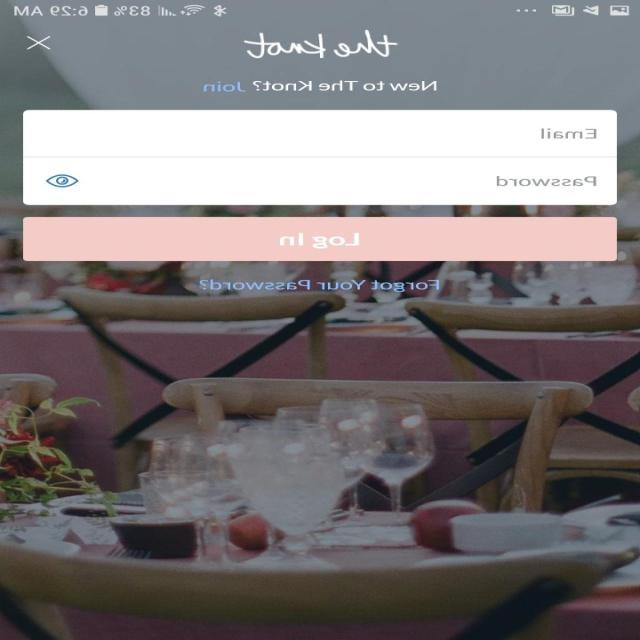BackgroundImage: (1, 17, 640, 639)
EditText: (24, 110, 617, 158), (24, 157, 617, 205)
Icon: (46, 174, 80, 188), (27, 35, 52, 50)
Image: (242, 29, 398, 59)
Text: (199, 278, 440, 292), (252, 80, 438, 91), (496, 176, 596, 186), (542, 128, 596, 139), (204, 80, 248, 92)
TextButton: (23, 216, 617, 261)
